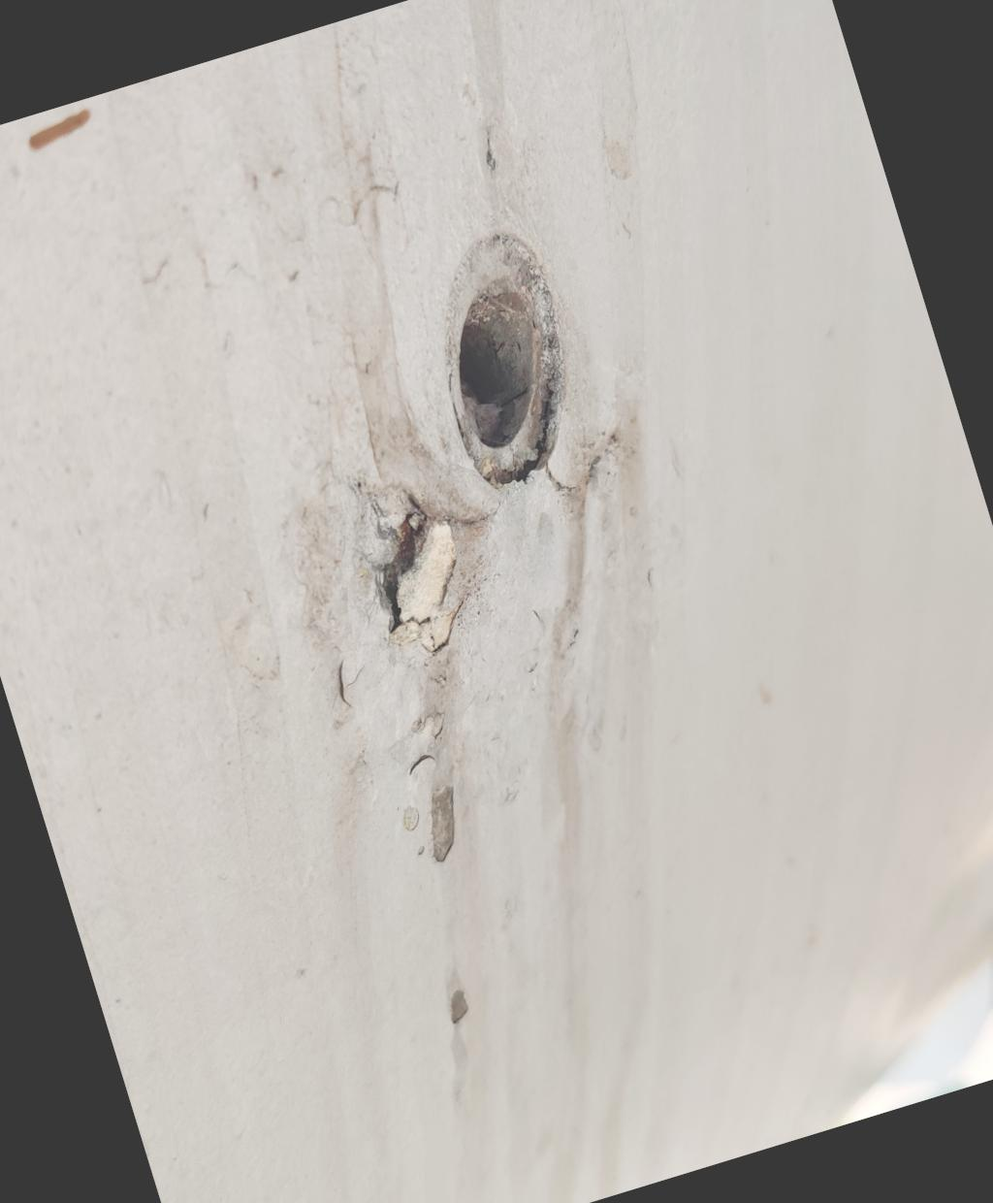crack: (297, 443, 583, 725)
